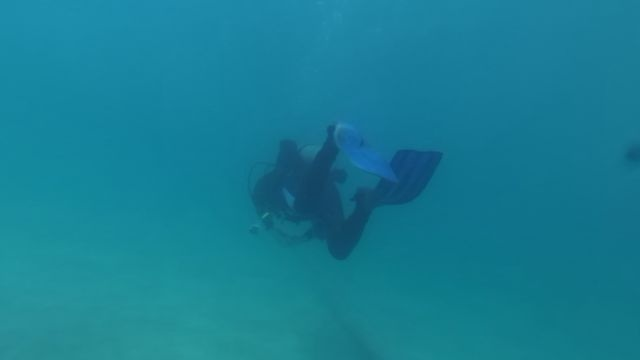Diver: (241, 122, 454, 264)
Hand: (287, 227, 309, 255), (270, 226, 293, 249)
